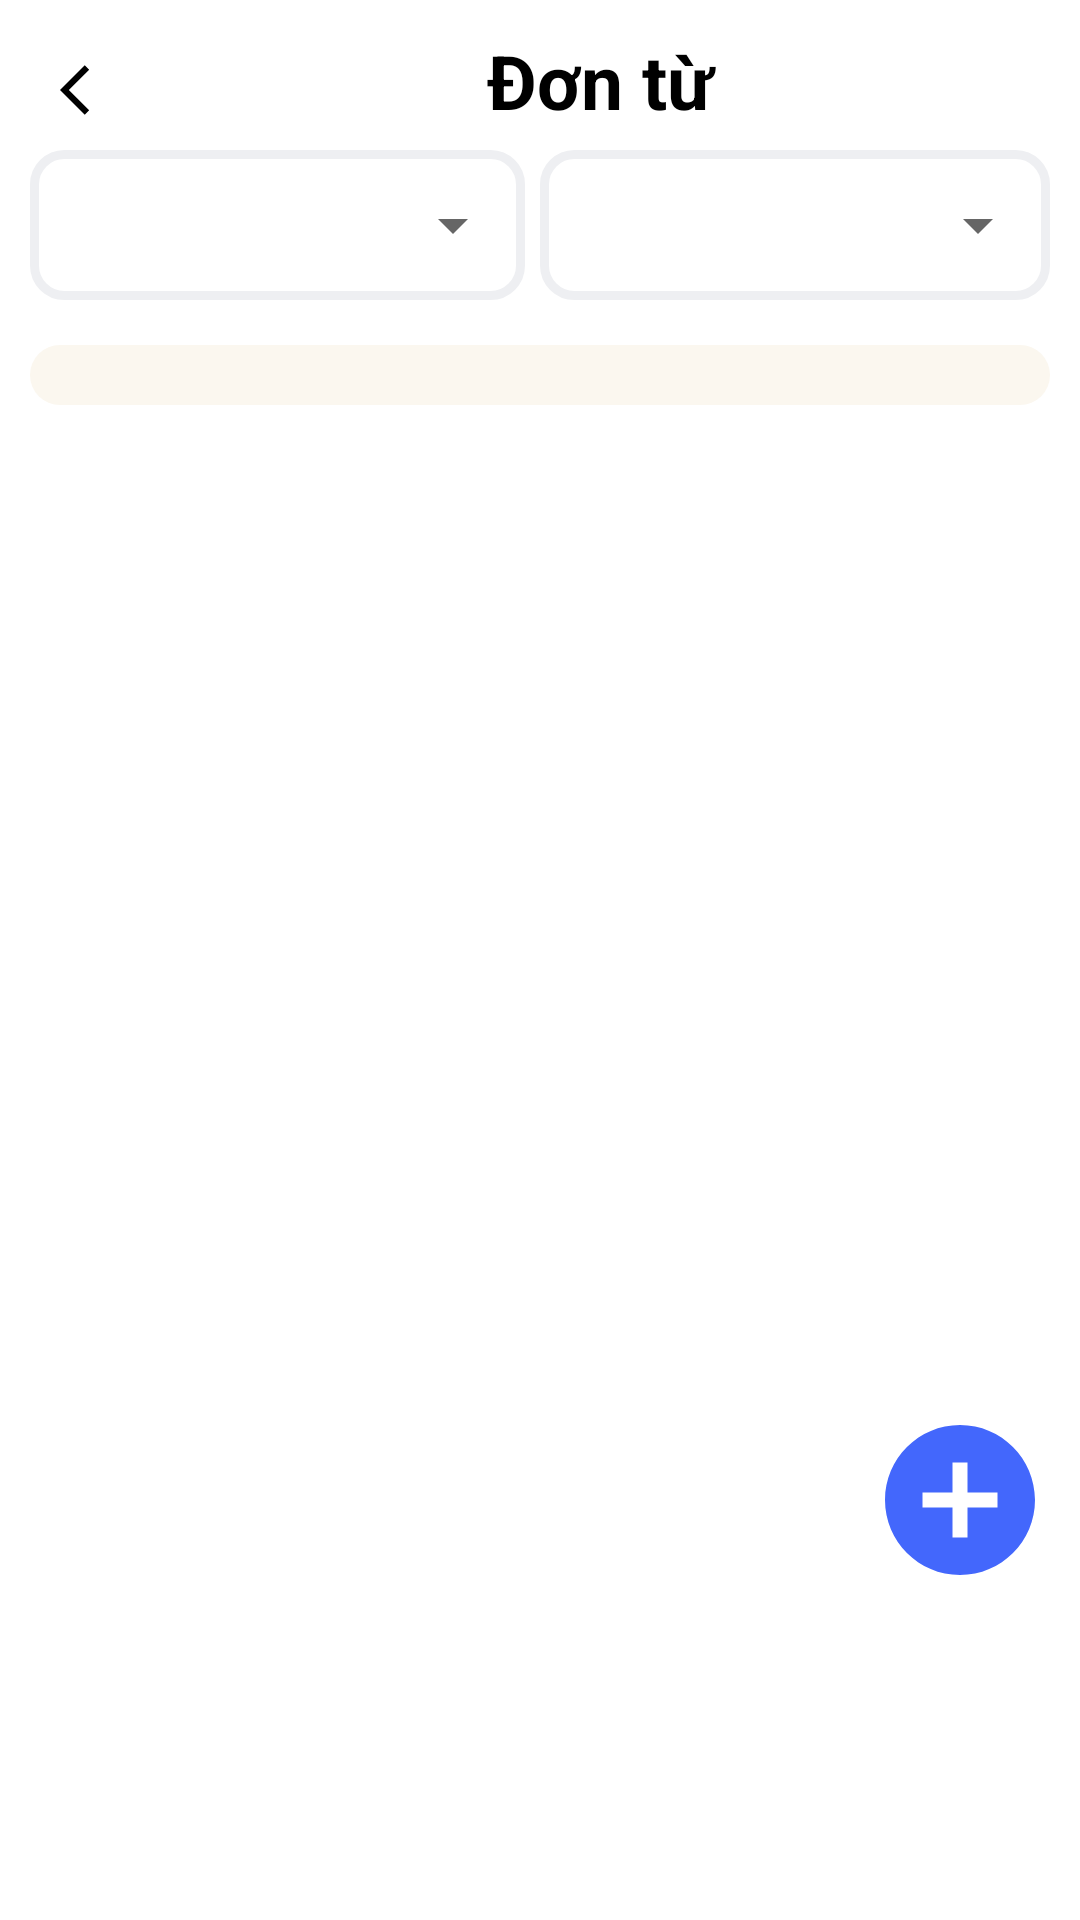

Icon click points for this 1080w x 1920h phone screenshot, format [x,y]:
add circle: [960,1500]
Back: [74,90]
